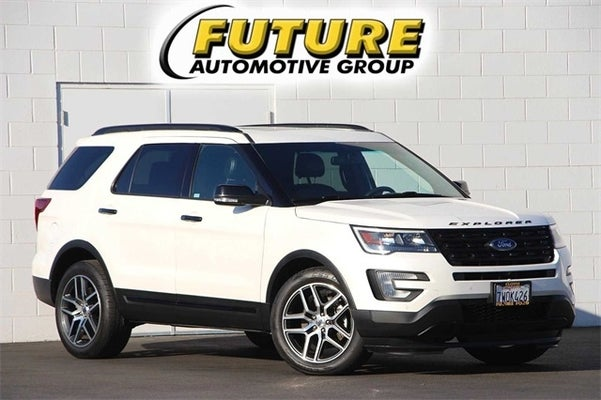Ford Explorer: (32, 123, 575, 375)
